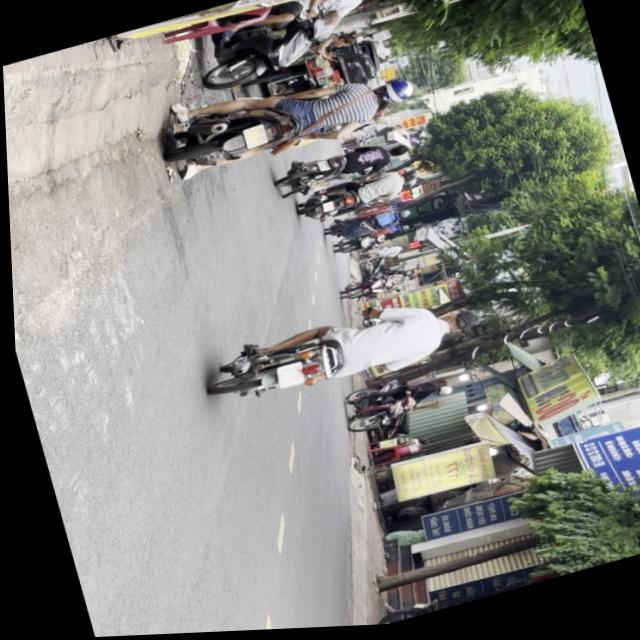helmet: (371, 79, 417, 113), (356, 0, 398, 4)
licenseplate: (194, 281, 492, 423), (151, 49, 427, 190), (184, 0, 415, 98)
motorcyclist: (437, 307, 484, 342)
nohelmet: (270, 363, 302, 392), (241, 126, 267, 151)
